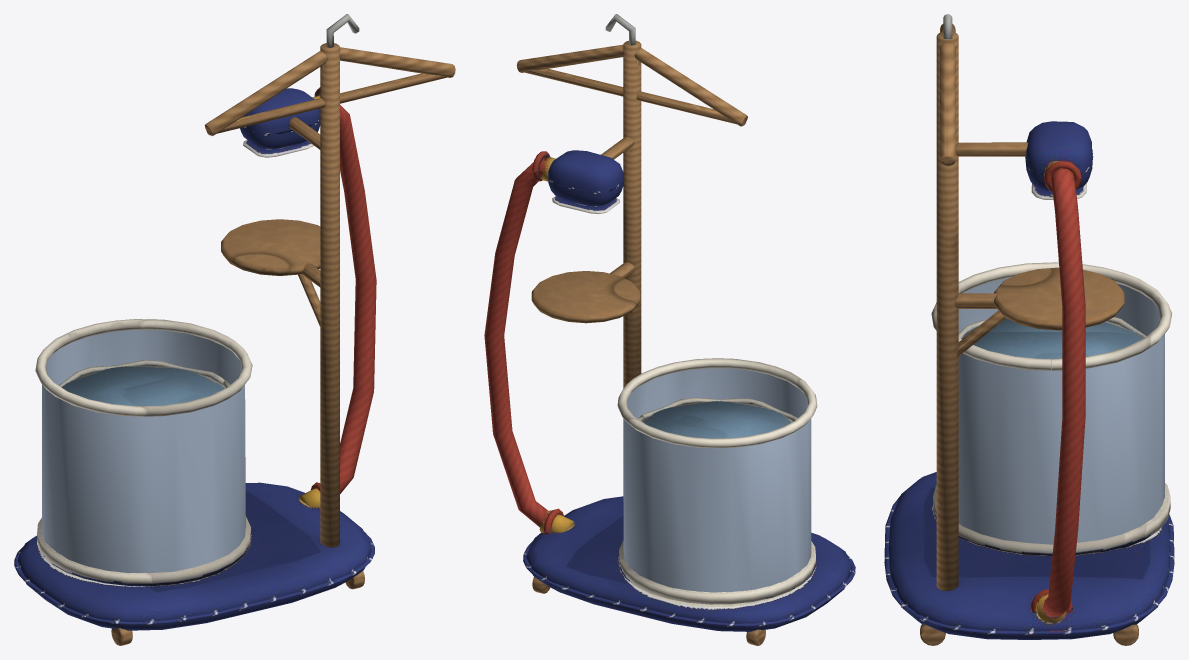
Rendered from giant_vapor.glb.
The picture shows the model from 3 angles, left to right: view 1: azimuth 30°, elevation 25°; view 2: azimuth 150°, elevation 25°; view 3: azimuth 270°, elevation 25°; orthographic projection. The views are drawn at different scales.
Visible parts, largest first — view 1: prop_giant_vapor_felt, prop_giant_vapor_glass, prop_giant_vapor_wood; view 2: prop_giant_vapor_felt, prop_giant_vapor_glass, prop_giant_vapor_wood; view 3: prop_giant_vapor_felt, prop_giant_vapor_glass, prop_giant_vapor_wood.
Part boxes in pixels (x1,y1,x2,y2): prop_giant_vapor_felt: (14,14,376,630); prop_giant_vapor_glass: (42,329,245,573); prop_giant_vapor_wood: (111,43,455,645); prop_giant_vapor_felt: (484,14,855,631); prop_giant_vapor_glass: (623,368,811,592); prop_giant_vapor_wood: (516,40,765,645); prop_giant_vapor_felt: (884,14,1174,639); prop_giant_vapor_glass: (958,277,1164,544); prop_giant_vapor_wood: (920,24,1138,645).
Size of the model in its own units: 2.59 by 3.74 by 1.56.
3 materials, 2 textured.
